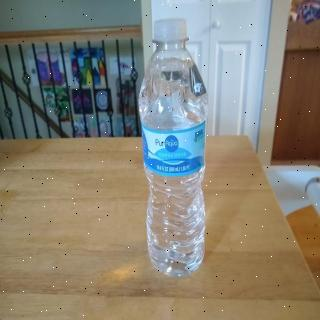Plastic-bottle: (136, 13, 212, 279)
